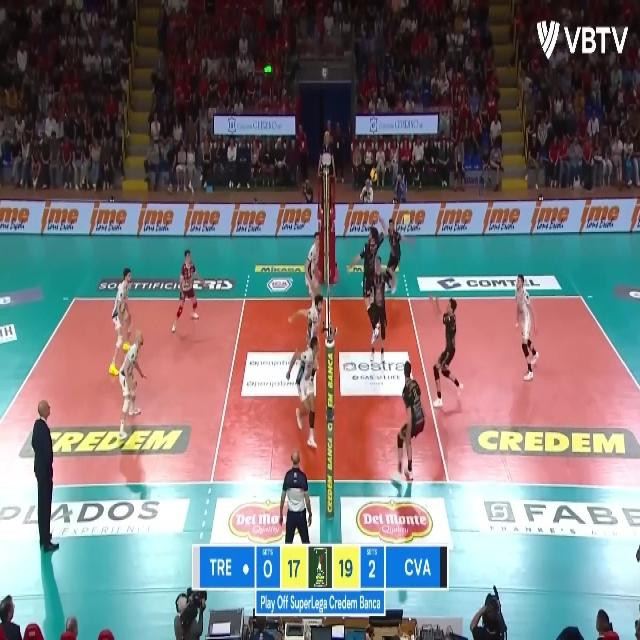volleyball court: (1, 292, 638, 487)
